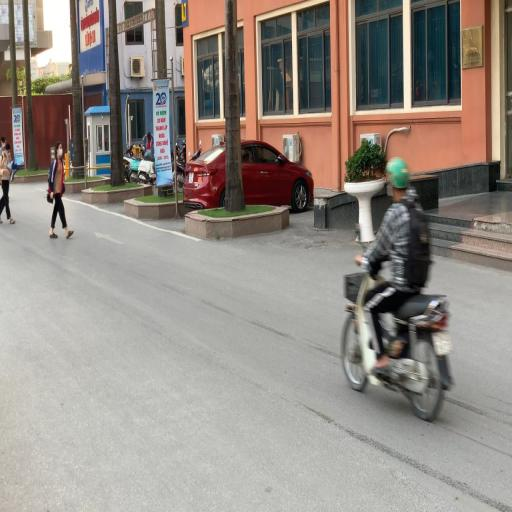bike: (340, 150, 456, 422)
numberplate: (431, 331, 454, 355)
with helmet: (386, 155, 412, 190)
